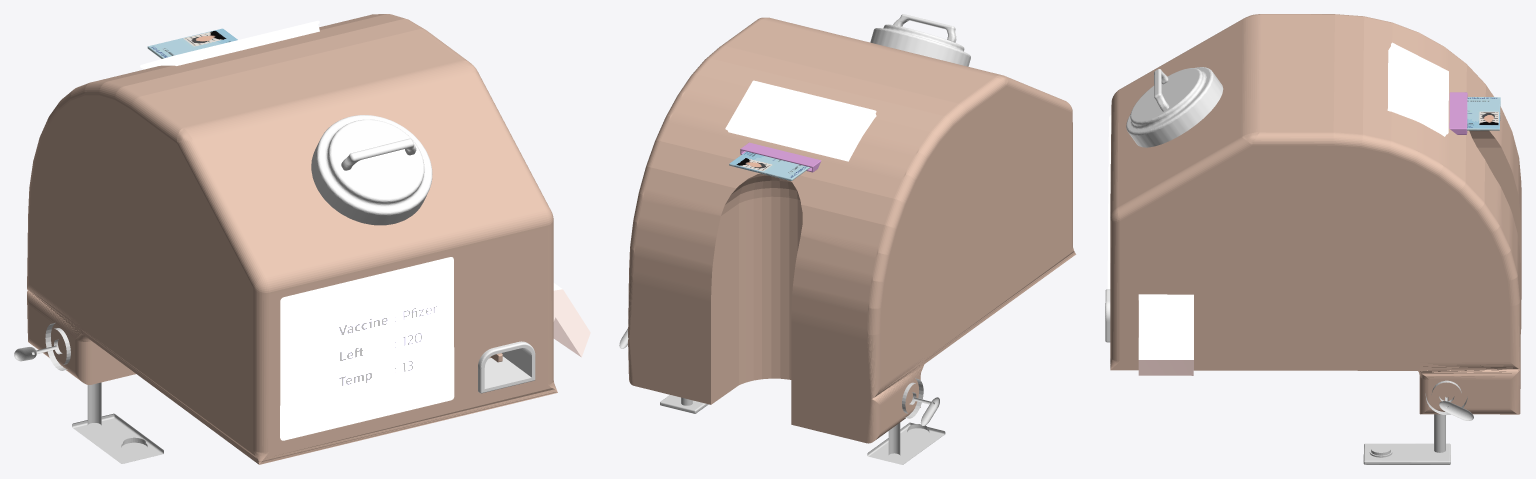
File: prototype7.glb
The picture shows the model from 3 angles, left to right: view 1: azimuth 30°, elevation 25°; view 2: azimuth 150°, elevation 25°; view 3: azimuth 270°, elevation 25°; orthographic projection. The views are drawn at different scales.
Parts seen in each view (by area): view 1: Cube, Plane.001, Circle, Cylinder.002, Plug, Plane, Plane.003, Plane.004, Circle.002; view 2: Cube, Plane, Circle, Cylinder.002, Plane.004, Plane.002, Circle.002, Cylinder; view 3: Cube, Circle, Plane.003, Plane, Cylinder, Plane.004, Plane.002, Circle.001, Plane.001.
Boxes of the visible parts, box(x1,y1,x2,y2) form: Cube: box(27, 14, 557, 464); Plane.001: box(280, 257, 454, 440); Circle: box(311, 115, 432, 225); Cylinder.002: box(72, 382, 163, 463); Plug: box(478, 341, 535, 393); Plane: box(140, 20, 319, 69); Plane.003: box(553, 283, 590, 357); Plane.004: box(147, 28, 237, 58); Circle.002: box(14, 322, 70, 370); Cube: box(628, 17, 1075, 443); Plane: box(725, 80, 876, 161); Circle: box(870, 14, 970, 66); Cylinder.002: box(867, 422, 945, 464); Plane.004: box(729, 151, 810, 180); Plane.002: box(740, 142, 821, 172); Circle.002: box(902, 378, 939, 425); Cylinder: box(660, 395, 708, 413); Cube: box(1110, 14, 1521, 414); Circle: box(1126, 67, 1223, 147); Plane.003: box(1138, 294, 1193, 375); Plane: box(1387, 42, 1448, 136); Cylinder: box(1363, 414, 1450, 464); Plane.004: box(1467, 97, 1500, 130); Plane.002: box(1449, 92, 1467, 134); Circle.001: box(1425, 380, 1473, 420); Plane.001: box(1107, 115, 1111, 289).
Size of the model in its own units: 13.78 by 13.15 by 15.07.
Materials: 10 (1 with a texture image).
